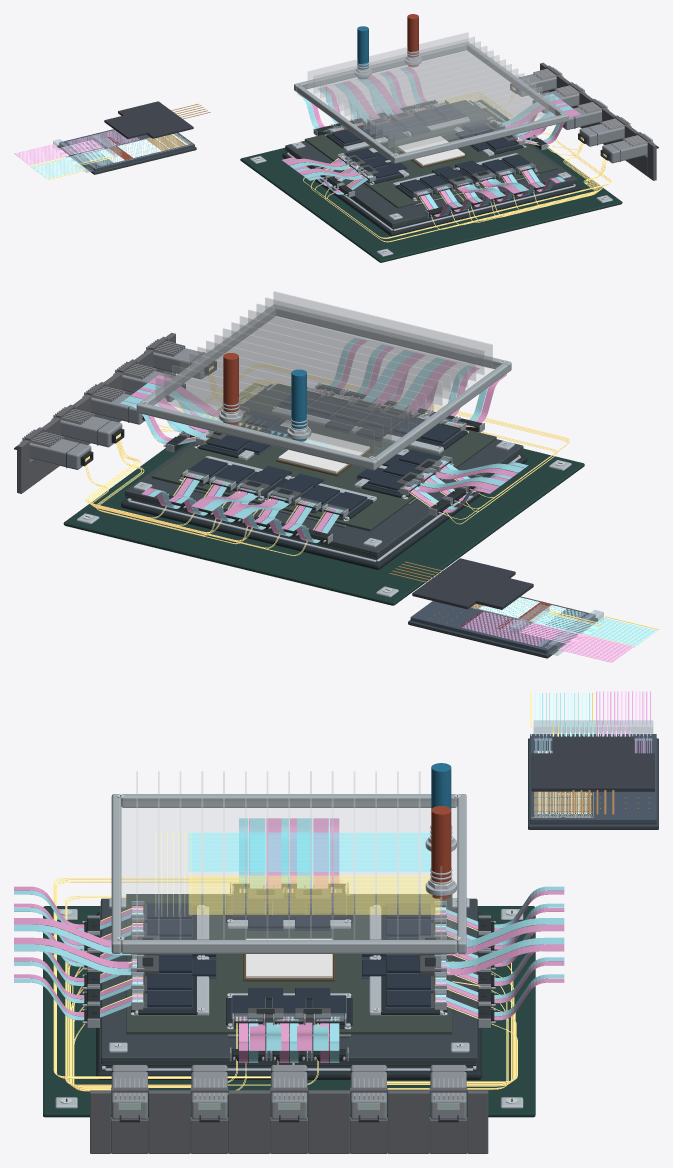
File: cpo-hardware.glb
The picture shows the model from 3 angles, top to bottom: view 1: azimuth 30°, elevation 25°; view 2: azimuth 150°, elevation 25°; view 3: azimuth 270°, elevation 25°; orthographic projection. The views are drawn at different scales.
Visible parts, largest first — view 1: CPO_MZM_HEATSINK__Heat sink fins, CPO_BOARD__Midnight laminate, CPO_COLDPLATE__Cold plate brushed nickel, CPO_MZM_PACKAGE__Organic build-up layers, CPO_RING_ENGINES__Electronic die face, CPO_PACKAGE__Package ceramic, CPO_ELS__Laser module anodized body, CPO_FIBERS__Laser glass, CPO_FIBERS__Receive ribbon, CPO_FIBERS__Transmit ribbon, CPO_MZM_FIBERS__Receive ribbon, CPO_PACKAGE__Anodized recess (+28 smaller); view 2: CPO_MZM_HEATSINK__Heat sink fins, CPO_BOARD__Midnight laminate, CPO_COLDPLATE__Cold plate brushed nickel, CPO_MZM_PACKAGE__Organic build-up layers, CPO_RING_ENGINES__Electronic die face, CPO_PACKAGE__Package ceramic, CPO_ELS__Laser module anodized body, CPO_MZM_DETAIL__Detail photonic die cladding, CPO_FIBERS__Transmit ribbon, CPO_FIBERS__Receive ribbon, CPO_PACKAGE__Anodized recess, CPO_FIBERS__Laser glass (+29 smaller); view 3: CPO_ELS__Front panel bezel, CPO_BOARD__Midnight laminate, CPO_MZM_PACKAGE__Organic build-up layers, CPO_COLDPLATE__Cold plate brushed nickel, CPO_PACKAGE__Package ceramic, CPO_RING_ENGINES__Electronic die face, CPO_COLDPLATE__Cold plate return channels, CPO_COLDPLATE__Cold plate supply channels, CPO_ELS__Laser module anodized body, CPO_FIBERS__Transmit ribbon, CPO_FIBERS__Receive ribbon, CPO_MZM_FIBERS__Transmit ribbon (+31 smaller).
Boxes of the visible parts, x1,y1,x2,y2 form: CPO_MZM_HEATSINK__Heat sink fins: (308, 32, 554, 152); CPO_BOARD__Midnight laminate: (240, 100, 622, 262); CPO_COLDPLATE__Cold plate brushed nickel: (294, 42, 568, 163); CPO_MZM_PACKAGE__Organic build-up layers: (304, 100, 557, 208); CPO_RING_ENGINES__Electronic die face: (331, 104, 530, 193); CPO_PACKAGE__Package ceramic: (285, 100, 577, 228); CPO_ELS__Laser module anodized body: (518, 74, 654, 163); CPO_FIBERS__Laser glass: (303, 92, 611, 238); CPO_FIBERS__Receive ribbon: (282, 66, 580, 216); CPO_FIBERS__Transmit ribbon: (285, 68, 578, 215); CPO_MZM_FIBERS__Receive ribbon: (284, 75, 577, 199); CPO_PACKAGE__Anodized recess: (282, 143, 580, 236); CPO_MZM_HEATSINK__Heat sink fins: (155, 291, 492, 455); CPO_BOARD__Midnight laminate: (63, 383, 584, 605); CPO_COLDPLATE__Cold plate brushed nickel: (136, 304, 511, 470); CPO_MZM_PACKAGE__Organic build-up layers: (151, 383, 496, 531); CPO_RING_ENGINES__Electronic die face: (188, 392, 459, 511); CPO_PACKAGE__Package ceramic: (125, 384, 523, 558); CPO_ELS__Laser module anodized body: (20, 348, 206, 469); CPO_MZM_DETAIL__Detail photonic die cladding: (410, 596, 595, 653); CPO_FIBERS__Transmit ribbon: (120, 338, 528, 543); CPO_FIBERS__Receive ribbon: (124, 339, 524, 541); CPO_PACKAGE__Anodized recess: (121, 443, 527, 569); CPO_FIBERS__Laser glass: (85, 364, 570, 555); CPO_ELS__Front panel bezel: (90, 1087, 488, 1153); CPO_BOARD__Midnight laminate: (43, 906, 535, 1117); CPO_MZM_PACKAGE__Organic build-up layers: (126, 894, 452, 1034); CPO_COLDPLATE__Cold plate brushed nickel: (111, 794, 466, 953); CPO_PACKAGE__Package ceramic: (101, 898, 477, 1065); CPO_RING_ENGINES__Electronic die face: (147, 894, 430, 1016); CPO_COLDPLATE__Cold plate return channels: (155, 831, 440, 916); CPO_COLDPLATE__Cold plate supply channels: (188, 832, 431, 871); CPO_ELS__Laser module anodized body: (111, 1065, 466, 1119); CPO_FIBERS__Transmit ribbon: (14, 818, 564, 1062); CPO_FIBERS__Receive ribbon: (14, 818, 564, 1062); CPO_MZM_FIBERS__Transmit ribbon: (14, 818, 564, 1050).
Bounding box in the file's own units: 0.2764 × 0.0687 × 0.1781.
